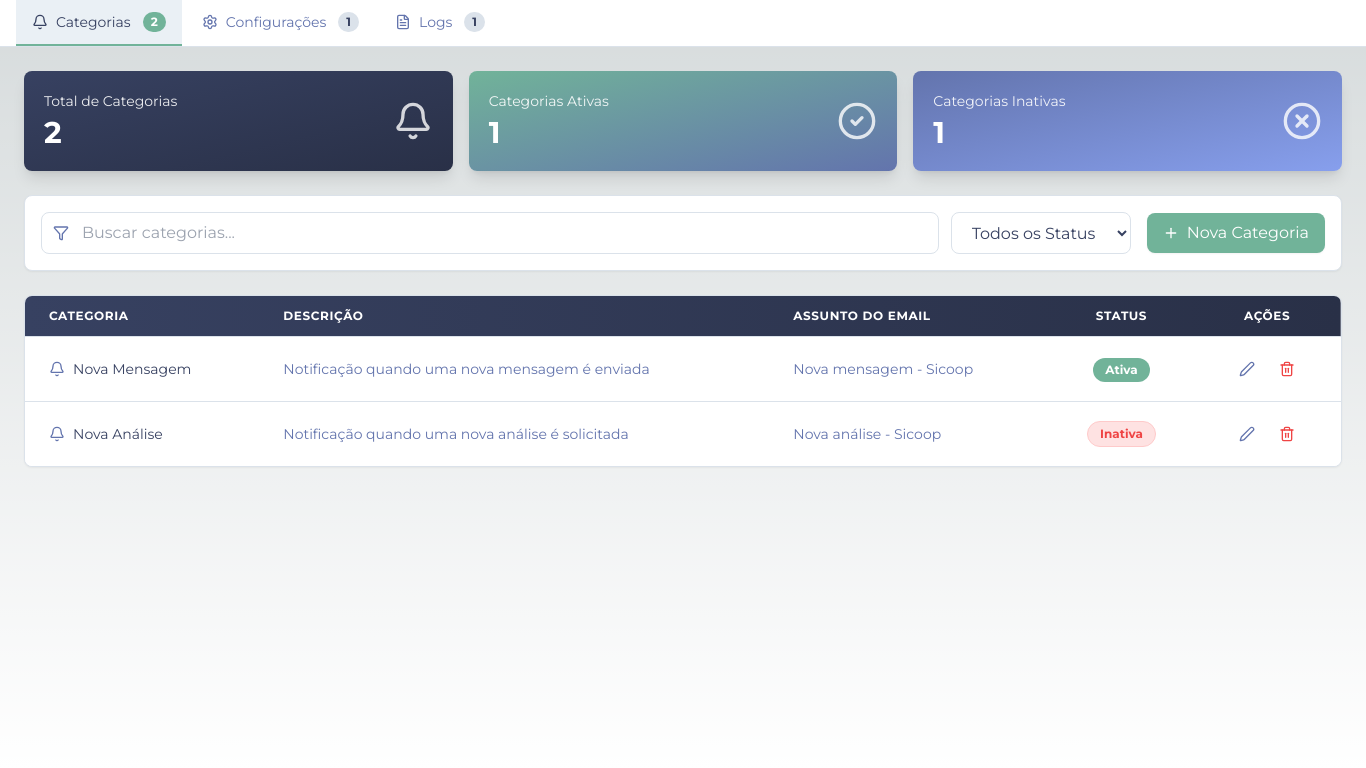
Test: NotificationsManager › modal de configuração › deve abrir o modal de nova configuração
This screenshot has width=1366, height=768.
Click the button "Configurações 1" at [280, 23], box [186, 0, 375, 46]
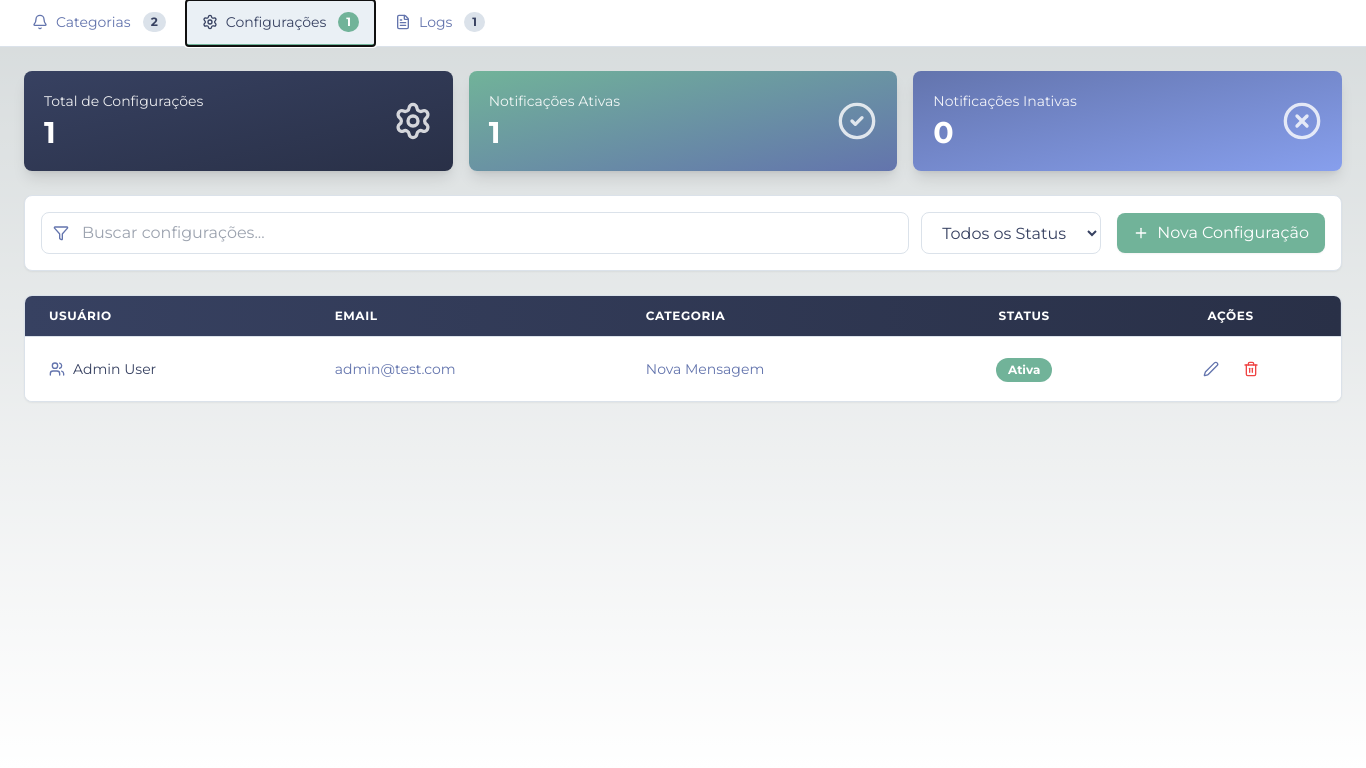
Click the button "Nova Configuração" at [1221, 233], box [1117, 213, 1325, 253]
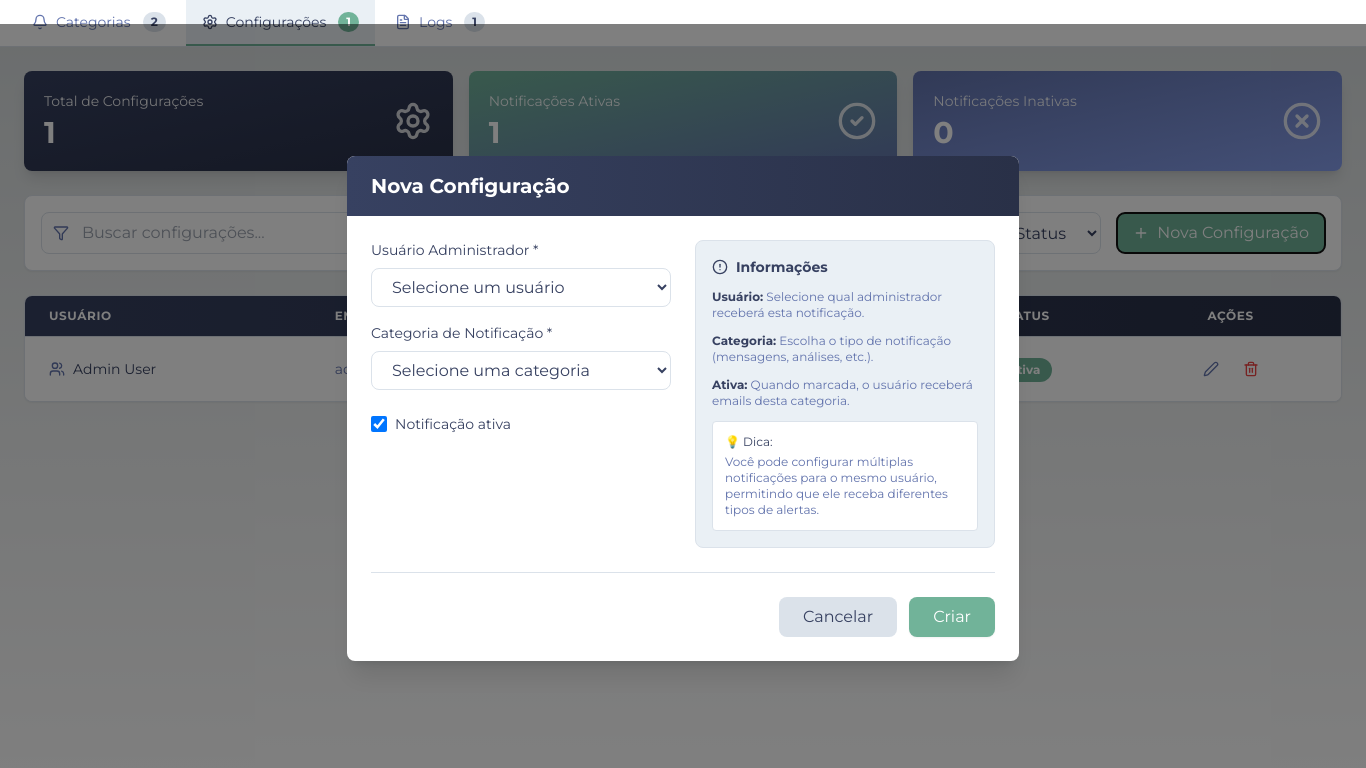
Check: the heading "Nova Configuração" is shown, box [371, 174, 570, 198]
Check: the text "Usuário Administrador *" is shown, box [371, 240, 538, 258]
Check: the text "Categoria de Notificação *" is shown, box [371, 324, 552, 342]
